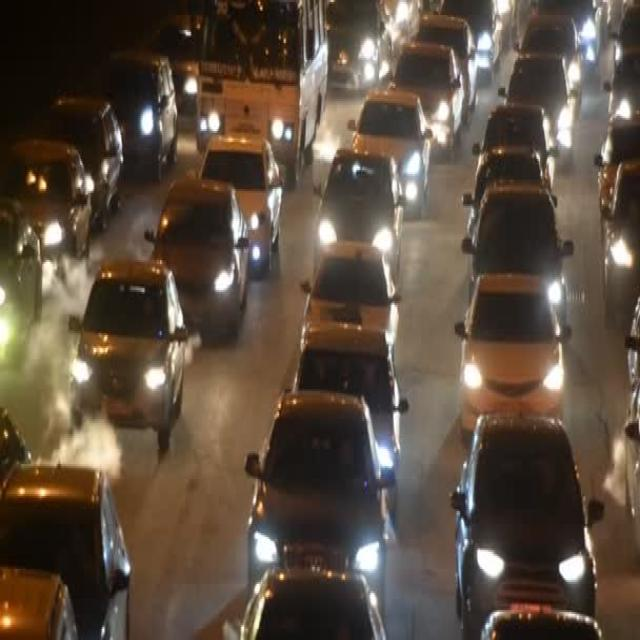headlights: (242, 509, 387, 590), (459, 530, 591, 598), (64, 345, 177, 412), (452, 346, 574, 406), (193, 98, 306, 154), (308, 209, 397, 261)
